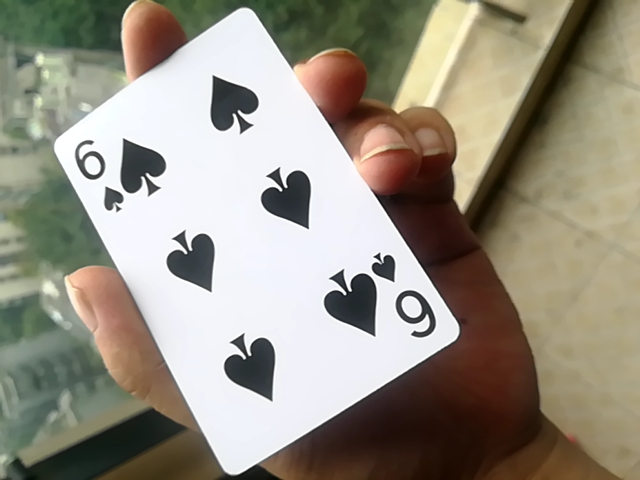ht 6: (47, 4, 456, 480)
